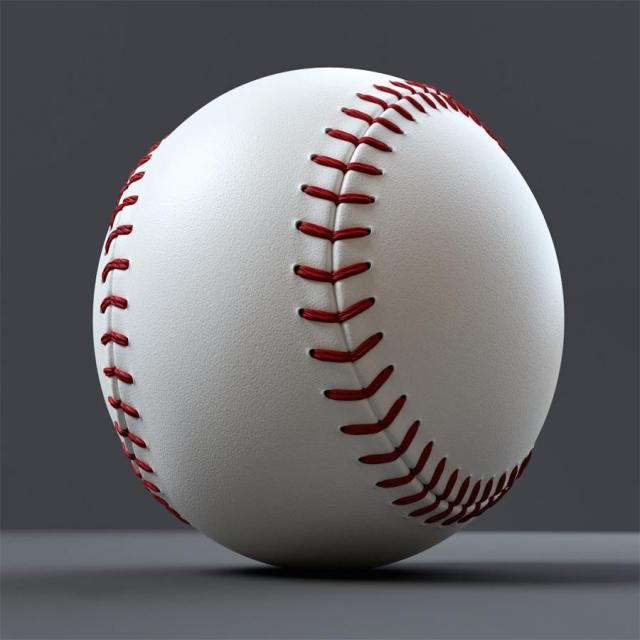baseball: (92, 68, 565, 569)
